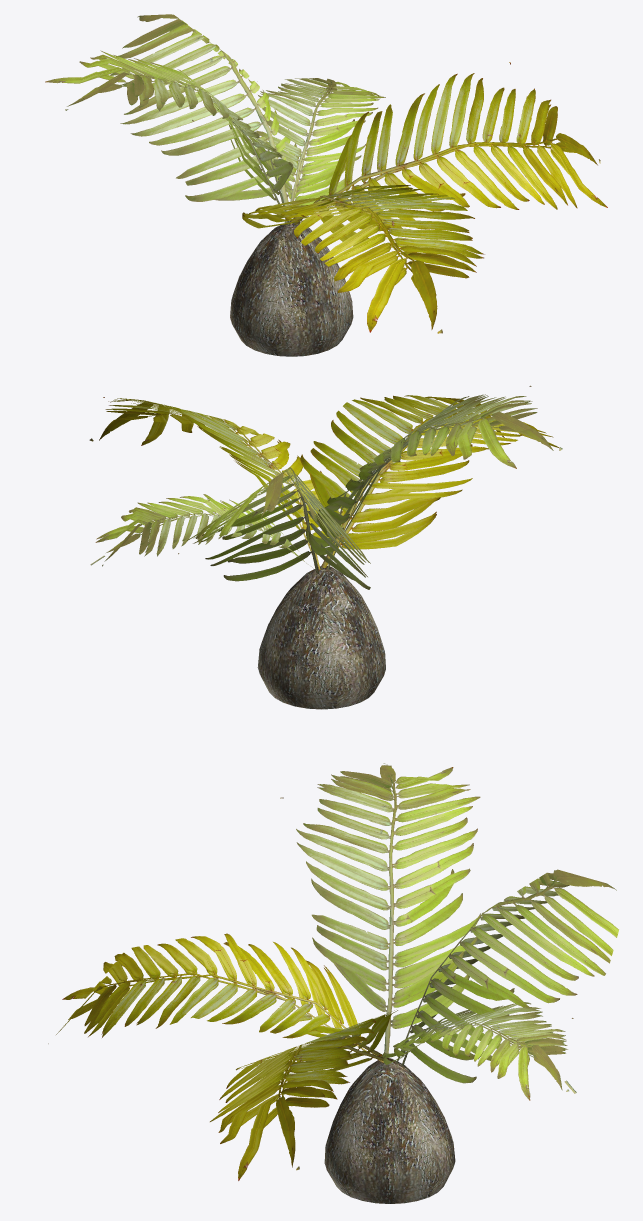
Rendered from CyadeGigantea_01.DAE.
3 views of the same model, one above another, from view 1: azimuth 30°, elevation 25°; view 2: azimuth 150°, elevation 25°; view 3: azimuth 270°, elevation 25° (orthographic). The views are drawn at different scales.
Parts seen in each view (by area): view 1: CyadeGigantea300, CyadeGigantea100, CyadeGigantea200; view 2: CyadeGigantea300, CyadeGigantea100, CyadeGigantea200; view 3: CyadeGigantea300, CyadeGigantea100, CyadeGigantea200.
Part boxes in pixels (x1,y1,x2,y2): CyadeGigantea300: [45, 14, 607, 356]; CyadeGigantea100: [65, 14, 600, 333]; CyadeGigantea200: [133, 67, 554, 317]; CyadeGigantea300: [89, 385, 559, 709]; CyadeGigantea100: [90, 386, 562, 569]; CyadeGigantea200: [102, 394, 516, 664]; CyadeGigantea300: [48, 763, 618, 1203]; CyadeGigantea100: [68, 763, 576, 1170]; CyadeGigantea200: [98, 774, 572, 1094].
Size of what is drawn, in the model's own units: 191 by 174 by 101.
